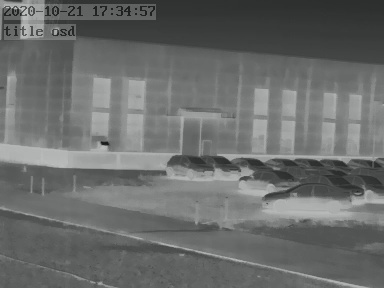vehicle: (263, 184, 353, 211), (233, 170, 294, 191), (164, 153, 213, 179), (204, 153, 243, 177), (352, 173, 383, 202), (232, 154, 271, 173), (262, 154, 296, 171), (347, 156, 379, 171), (317, 156, 347, 170), (295, 156, 324, 170)
